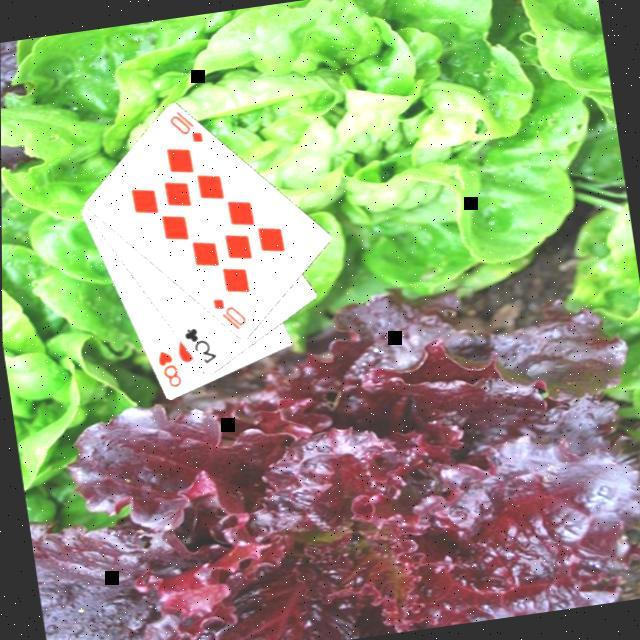10D: (163, 102, 204, 148), (208, 290, 248, 334)
3C: (177, 320, 219, 369)
8H: (152, 343, 184, 391)
